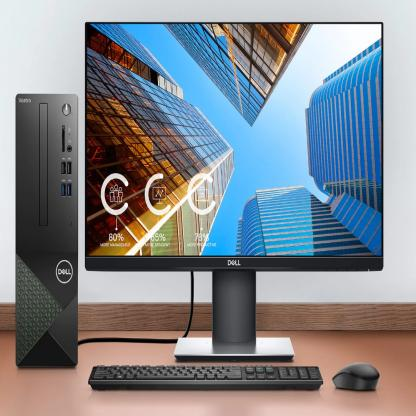DESKTOP: (5, 7, 416, 416)
